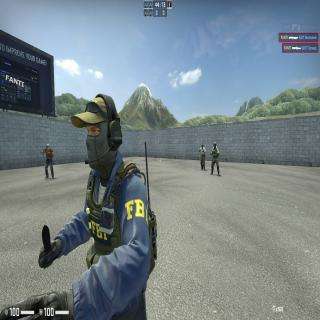CT-Body: (85, 95, 145, 320), (211, 142, 219, 176)
CT-Head: (86, 96, 118, 172), (213, 142, 217, 149)
T-Body: (43, 143, 53, 178), (201, 144, 205, 170)
T-Head: (46, 144, 50, 150), (202, 144, 204, 149)
